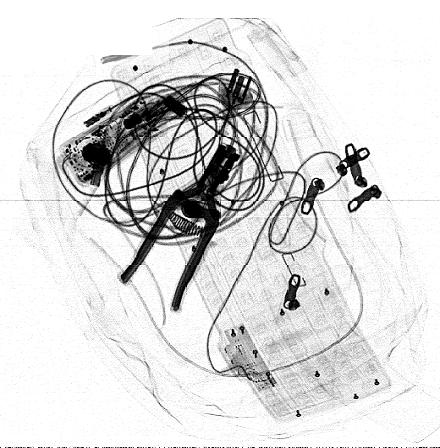Pliers: (118, 143, 241, 314)
